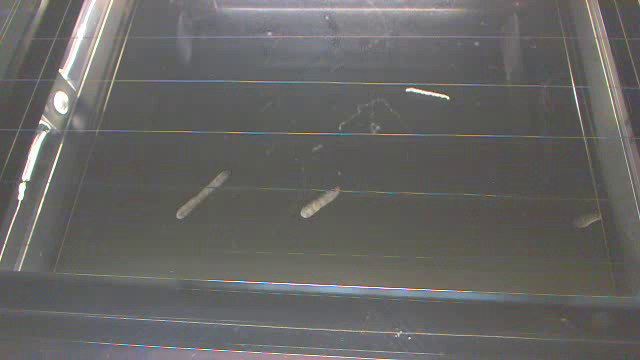alpha: (174, 168, 230, 223), (298, 184, 342, 223), (573, 207, 606, 231)
